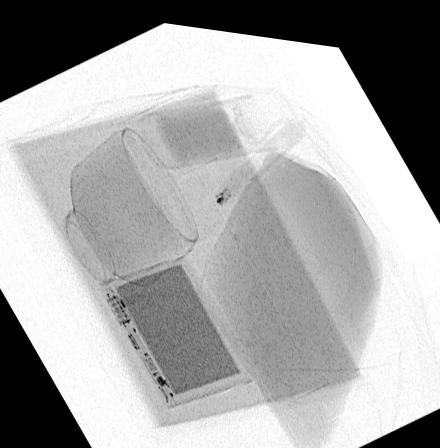Powerbank: (99, 253, 255, 407)
